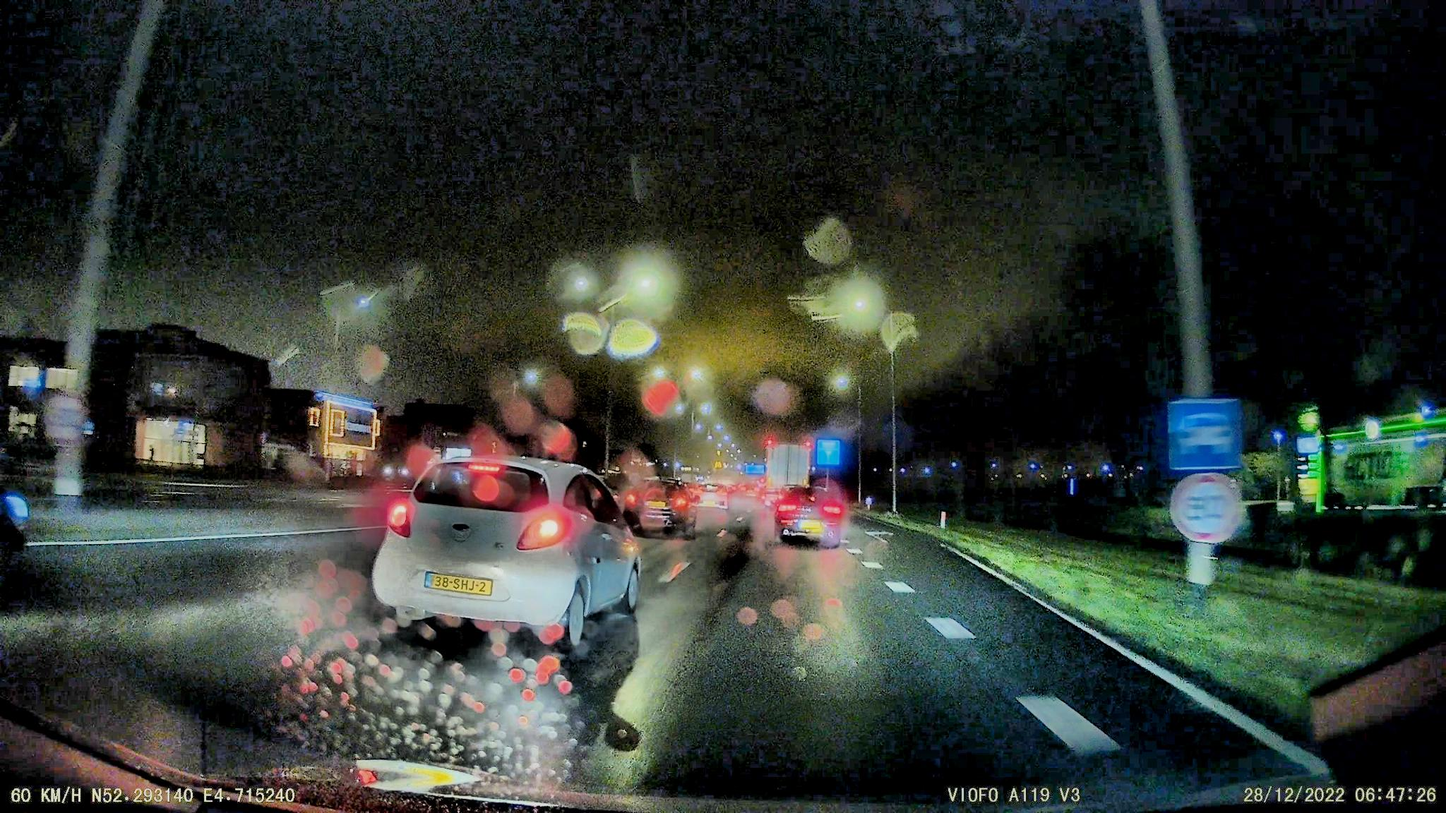Roads: (0, 505, 1300, 795)
